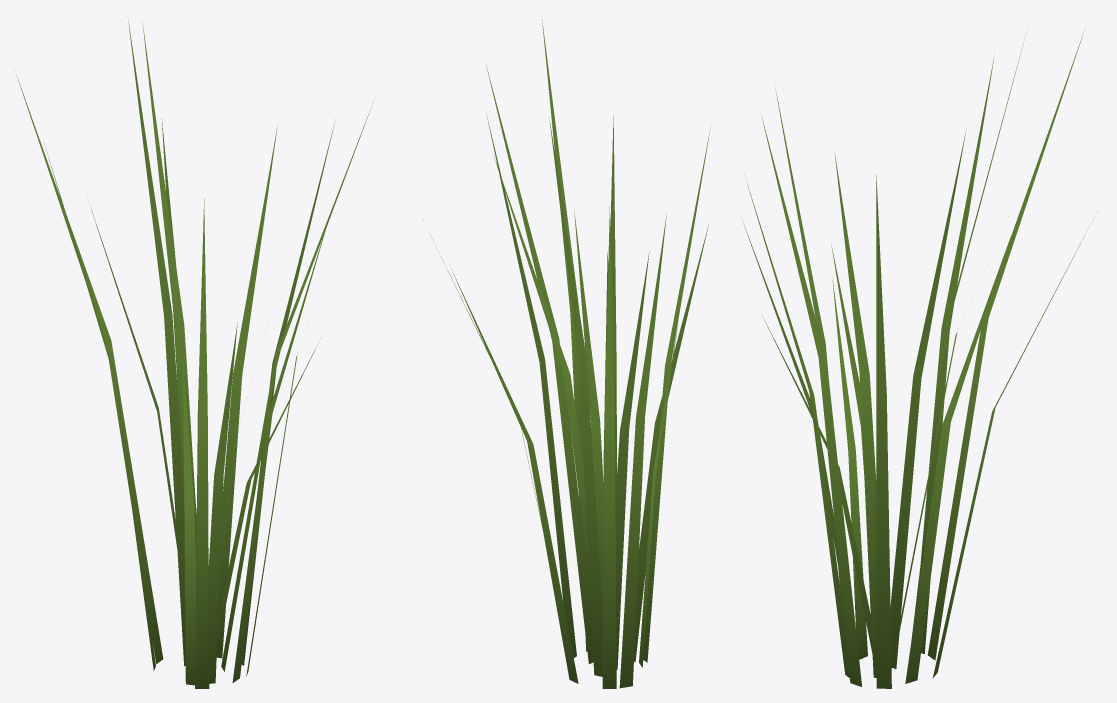
Rendered from reeds.glb.
3 views of the same model, side by side, from view 1: azimuth 30°, elevation 25°; view 2: azimuth 150°, elevation 25°; view 3: azimuth 270°, elevation 25° (orthographic). The views are drawn at different scales.
Visible parts, largest first — view 1: reeds; view 2: reeds; view 3: reeds.
Boxes of the visible parts, x1,y1,x2,y2 form: reeds: [16, 16, 373, 688]; reeds: [422, 16, 711, 688]; reeds: [743, 31, 1097, 688].
Size of the model in its own units: 0.7561 by 1.7 by 0.8567.
